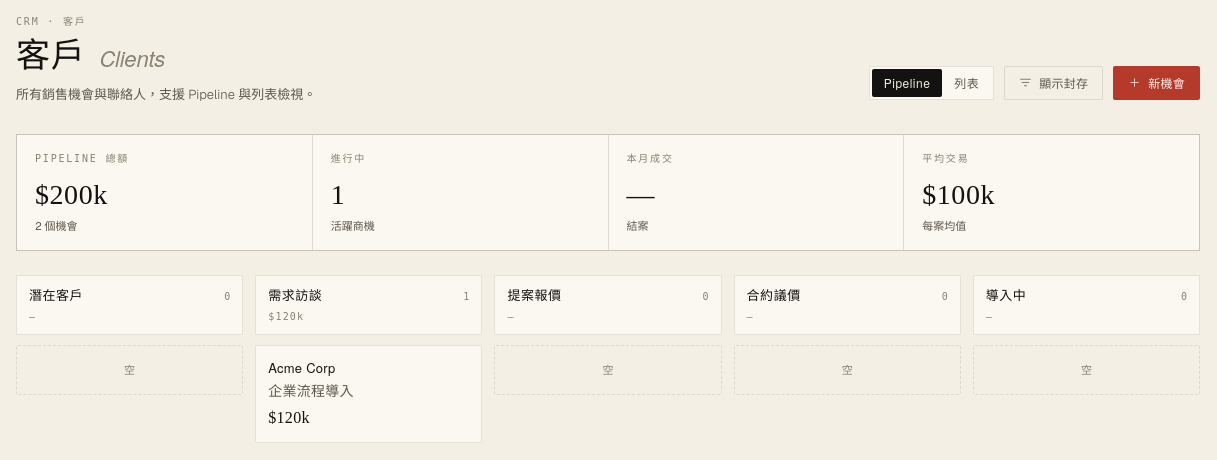
Test: ZenInkClientsWorkspace › toggles inactive deals from 篩選 CTA
This screenshot has width=1217, height=460.
Check: the text "封存商機" is not shown
Click the button "顯示封存". click: coordinates (1054, 83)
box: [1004,66,1103,100]
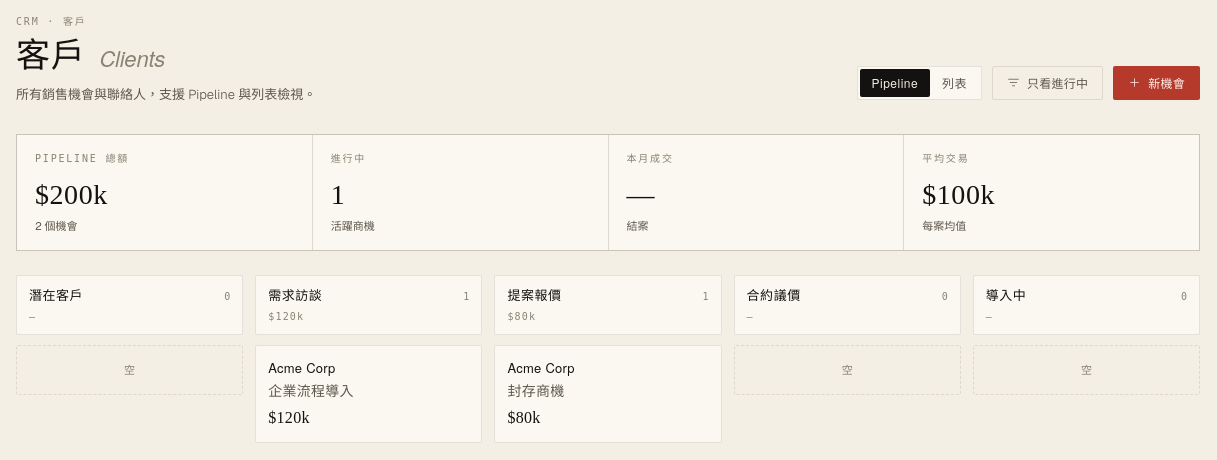
Check: the button "只看進行中" is shown, box [992,66,1103,100]
Check: the text "封存商機" is shown, box [507,384,564,399]
